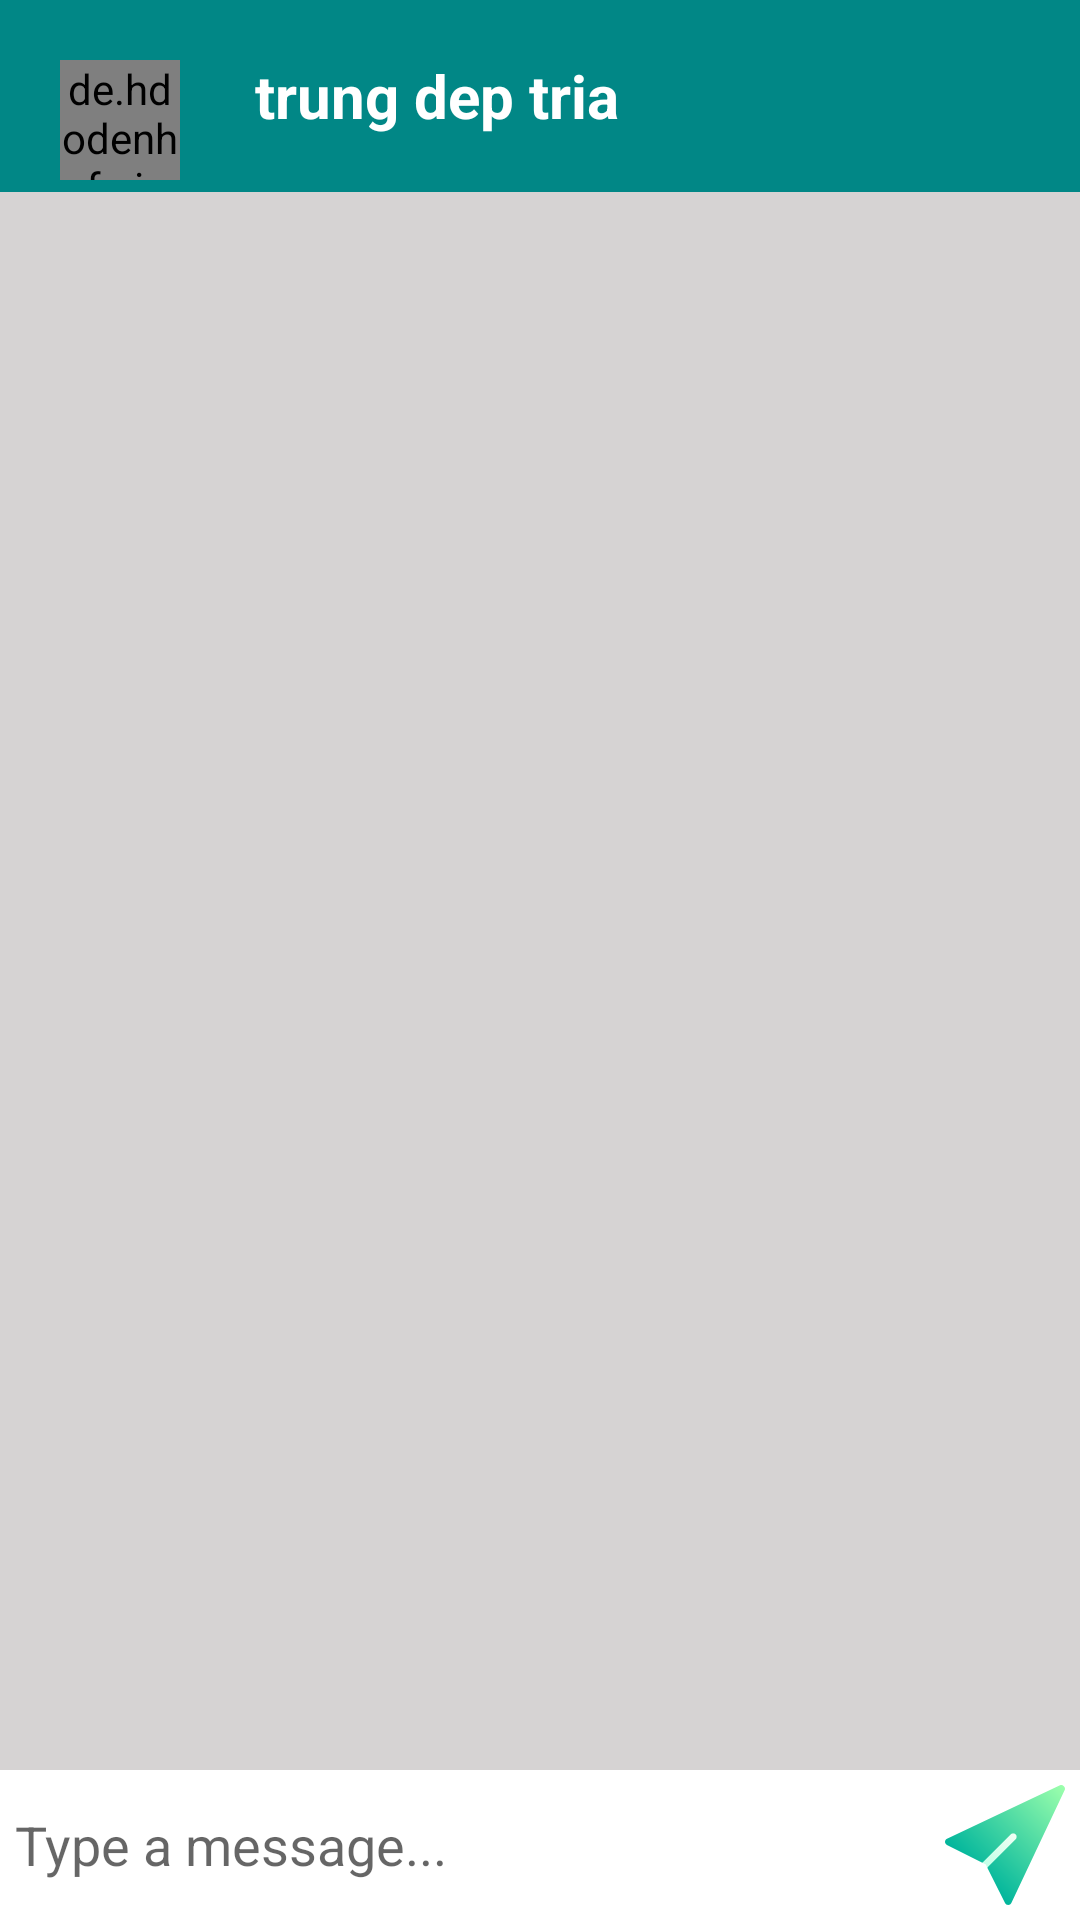

Icon bounding boxes for this 1080×1920 phone screenshot, format [x1, y1, x2, y2]:
send: [945, 1785, 1065, 1905]
